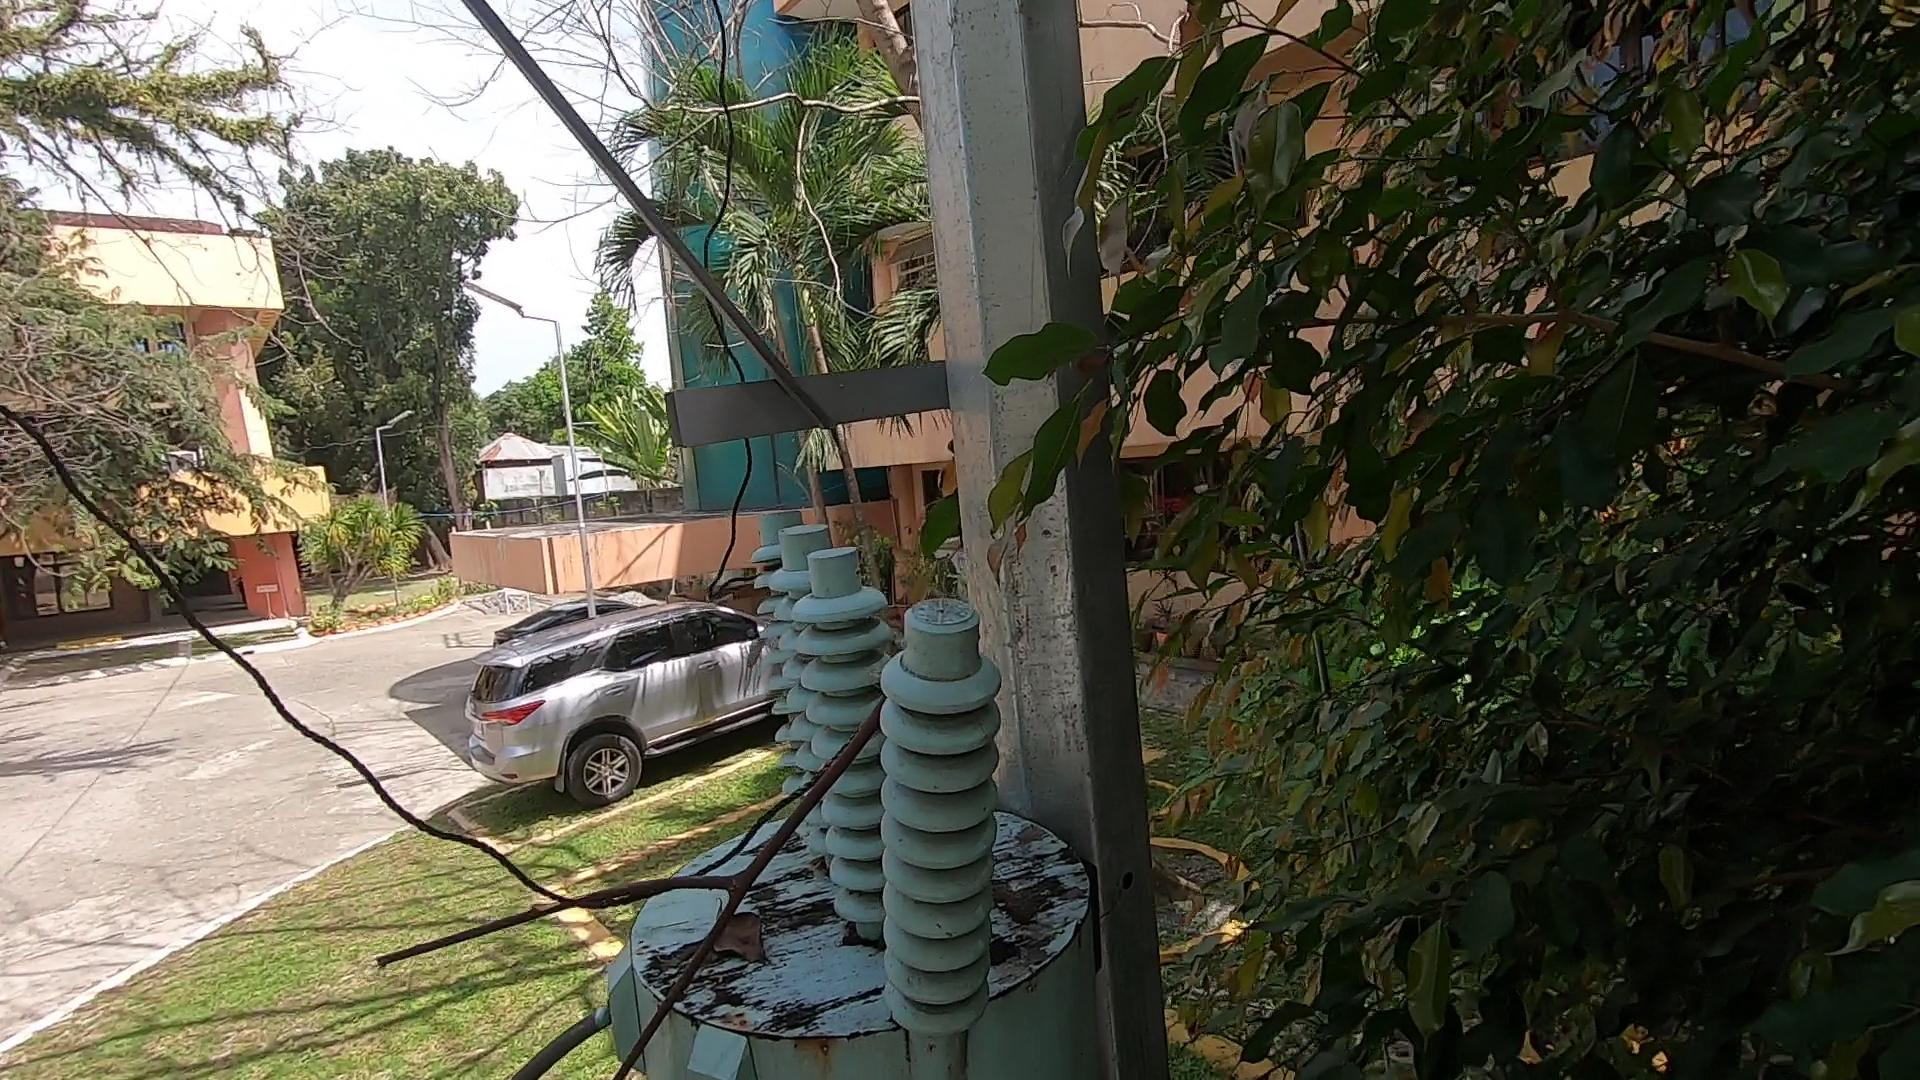leaf: (680, 891, 770, 960)
tree branch: (340, 659, 924, 1080)
